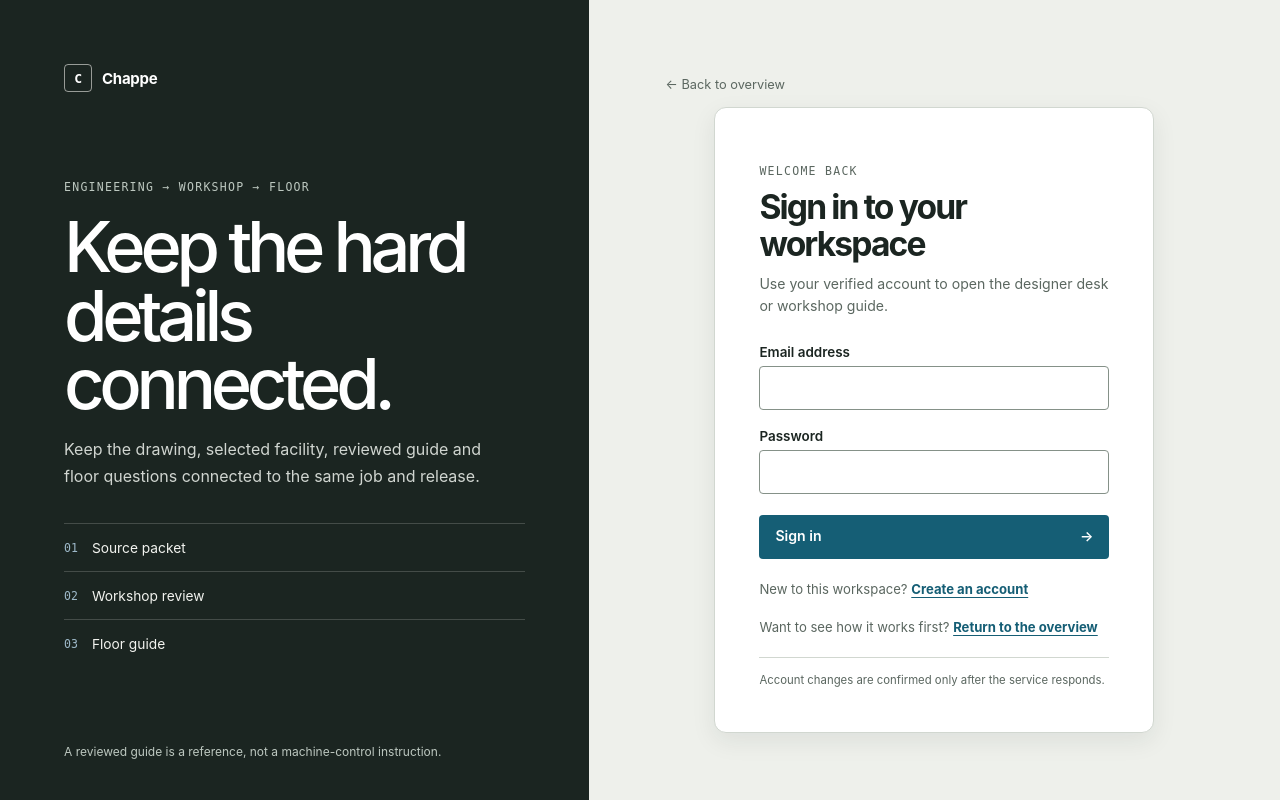
it: AuthForm › rejects an external return path and displays actual service errors
In the field labelled "Email address": (934, 388) [759,366,1109,410], type "designer@example.com"
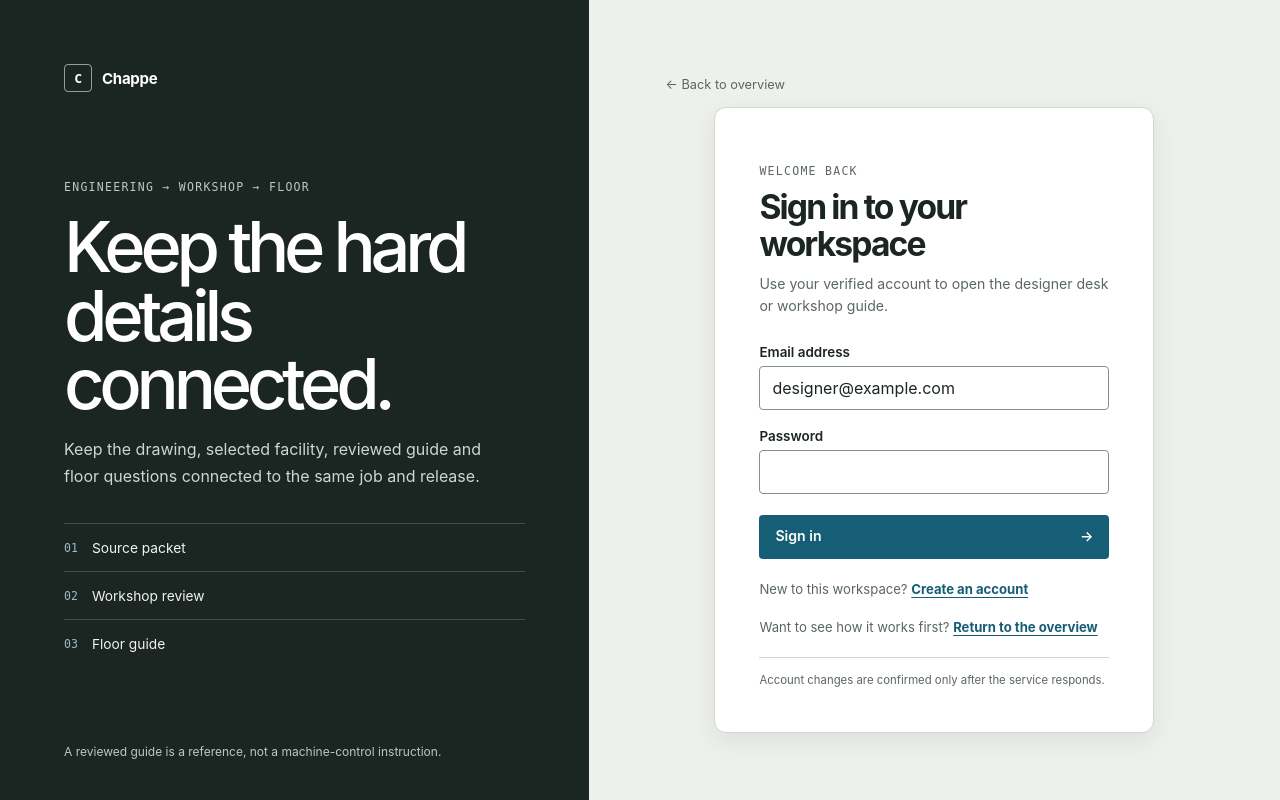
In the password field labelled "Password": (934, 472) [759,450,1109,494], type "password"
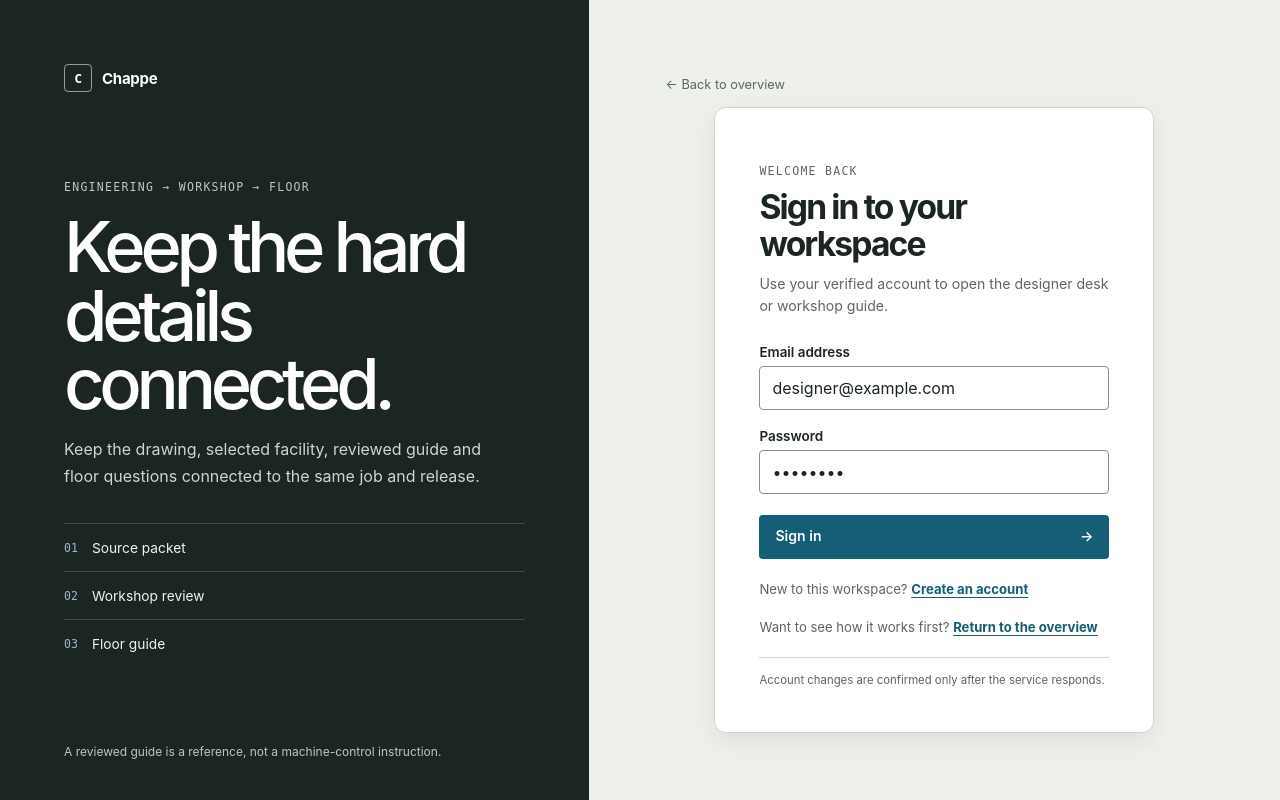
Submit the form "Email address Password Sign in →", box [759,344,1109,559]
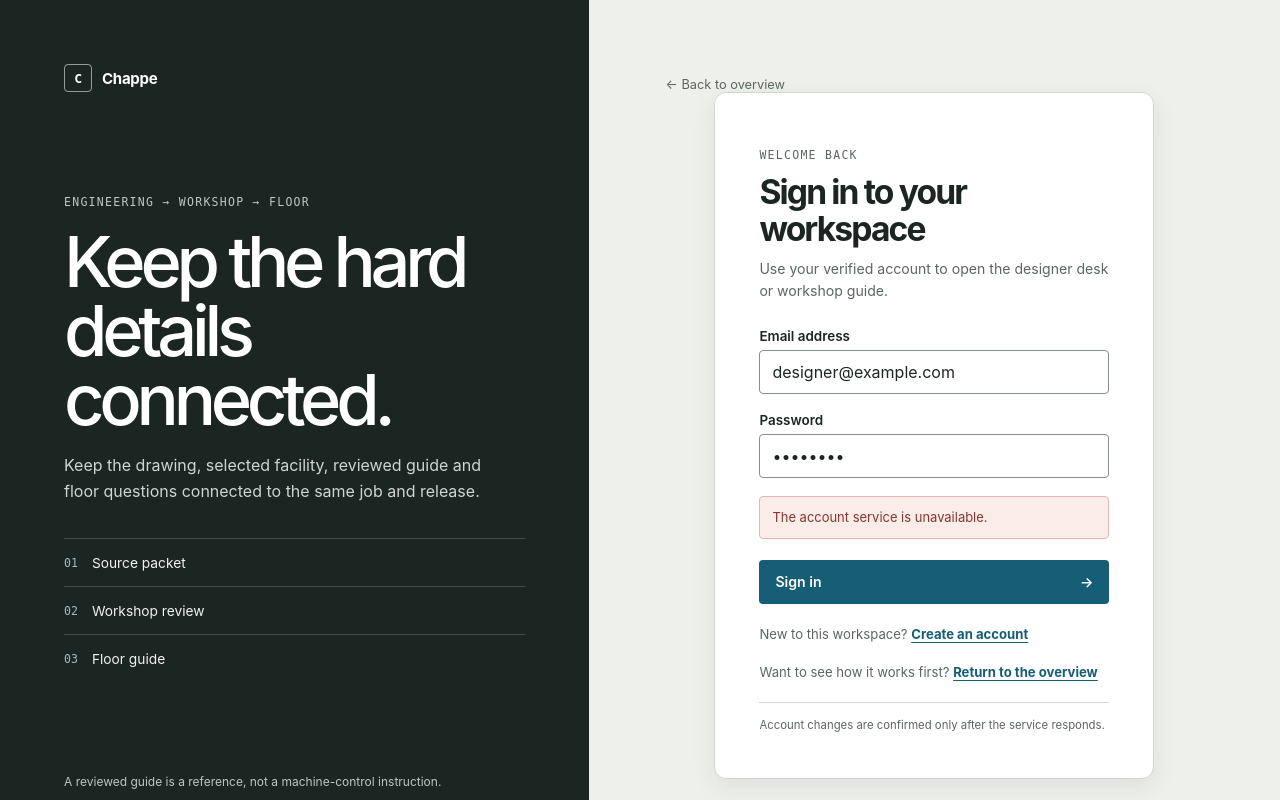
Result: the message reads "The account service is unavailable." at [772,509,988,525]
